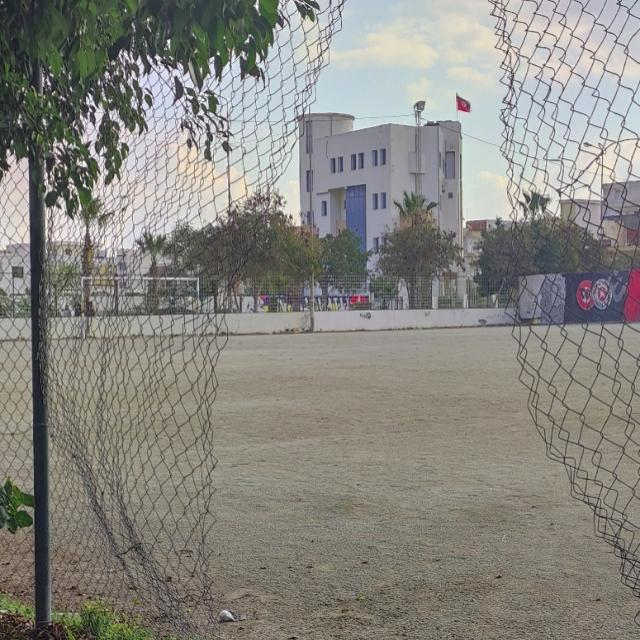fence line: (189, 21, 615, 615)
